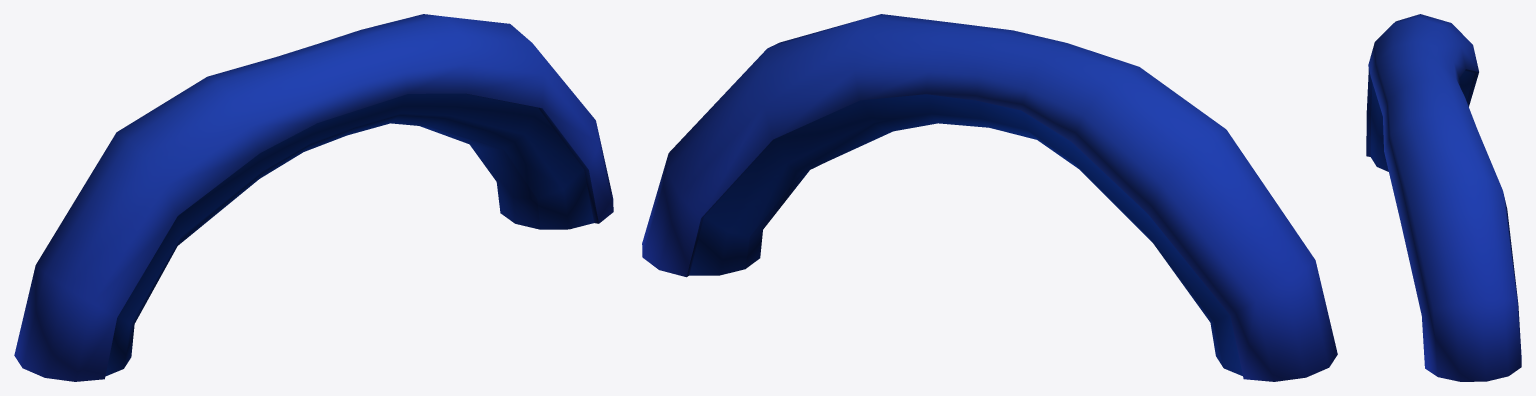
The model's file is Pont_Pierre.fbx.
3 renders of one model, left to right at view 1: azimuth 30°, elevation 25°; view 2: azimuth 150°, elevation 25°; view 3: azimuth 270°, elevation 25°, orthographic. The views are drawn at different scales.
Visible parts, largest first — view 1: Cylinder; view 2: Cylinder; view 3: Cylinder.
Part boxes in pixels (x1,y1,x2,y2): Cylinder: [14, 14, 613, 381]; Cylinder: [642, 14, 1337, 381]; Cylinder: [1366, 14, 1521, 381].
Bounding box in the file's own units: 646 × 247 × 171.
